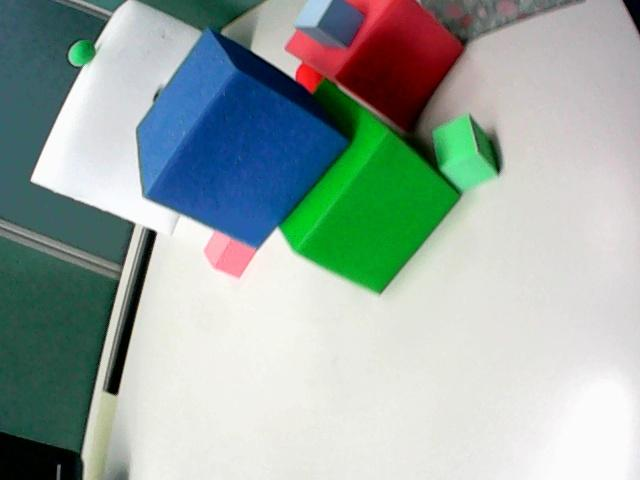blue_block: (137, 30, 347, 247), (295, 0, 363, 47)
red_block: (286, 0, 462, 130), (205, 231, 255, 277), (295, 63, 322, 93)
